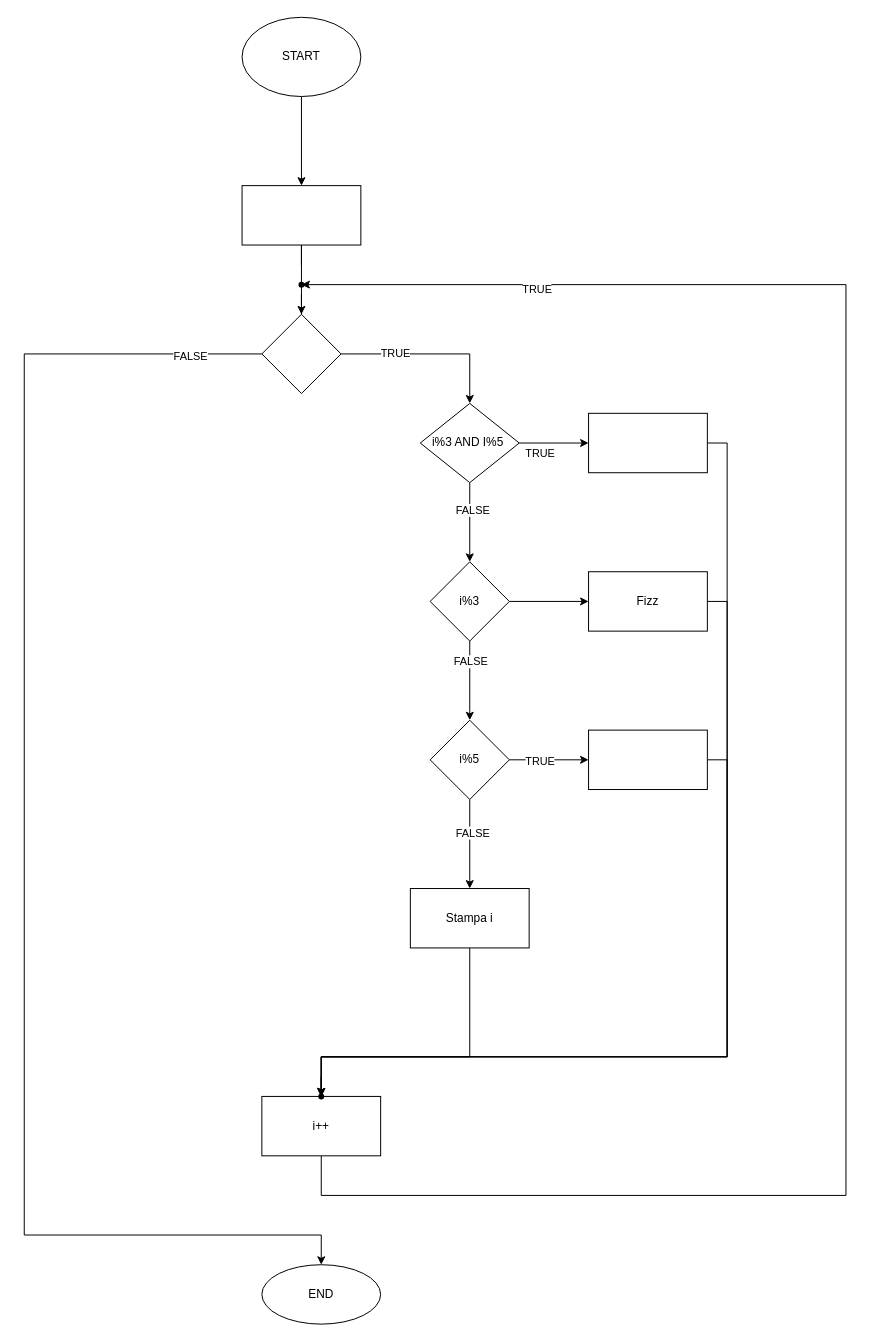
The diagram is 871 pixels wide and 1341 high, and some of its shapes have lost their labels. The shapes that lost their labels are listed below. From the top down, each one's centre as x and y in pixels, then its label:
At [301,215]: "i=0".
At [301,353]: "i<=100".
At [647,442]: "FizzBuzz".
At [647,759]: "Buzz".
